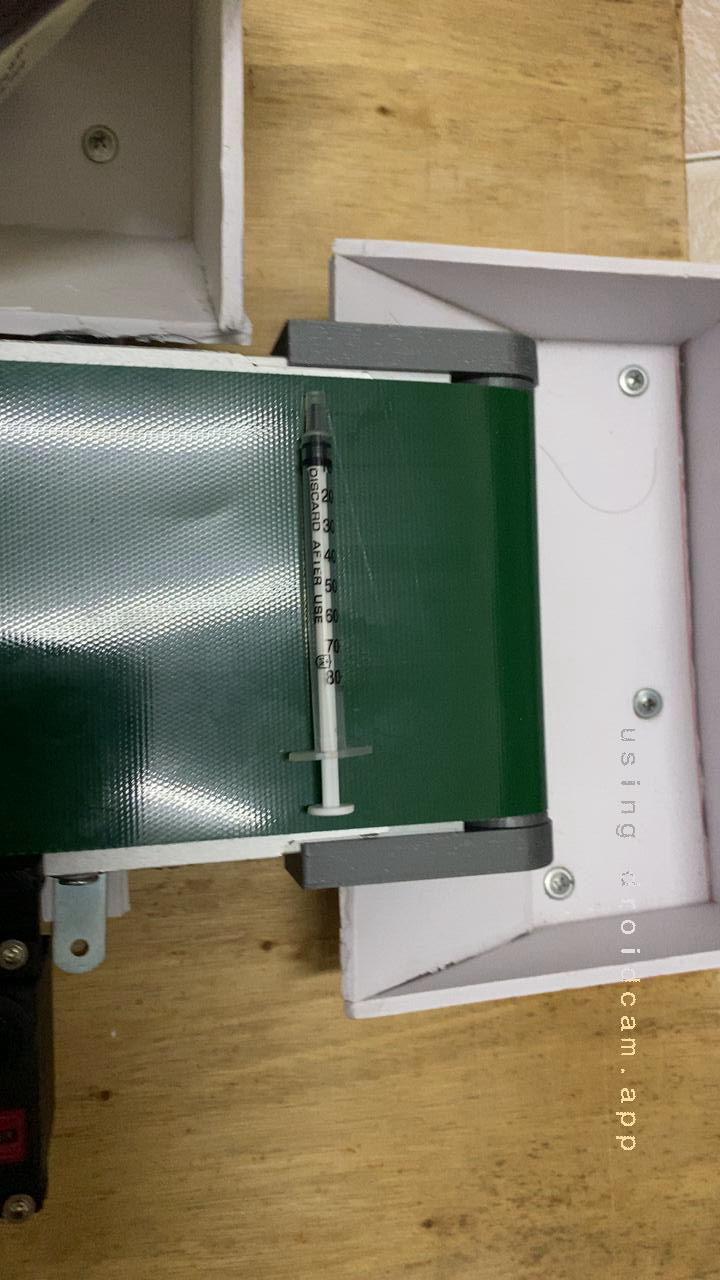syringe: (258, 429, 386, 833)
